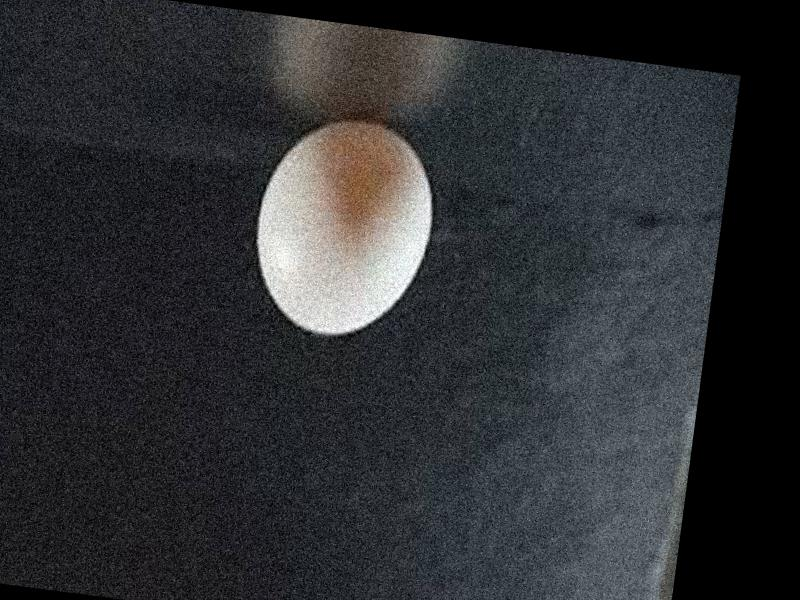Eggs: (245, 110, 443, 351)
